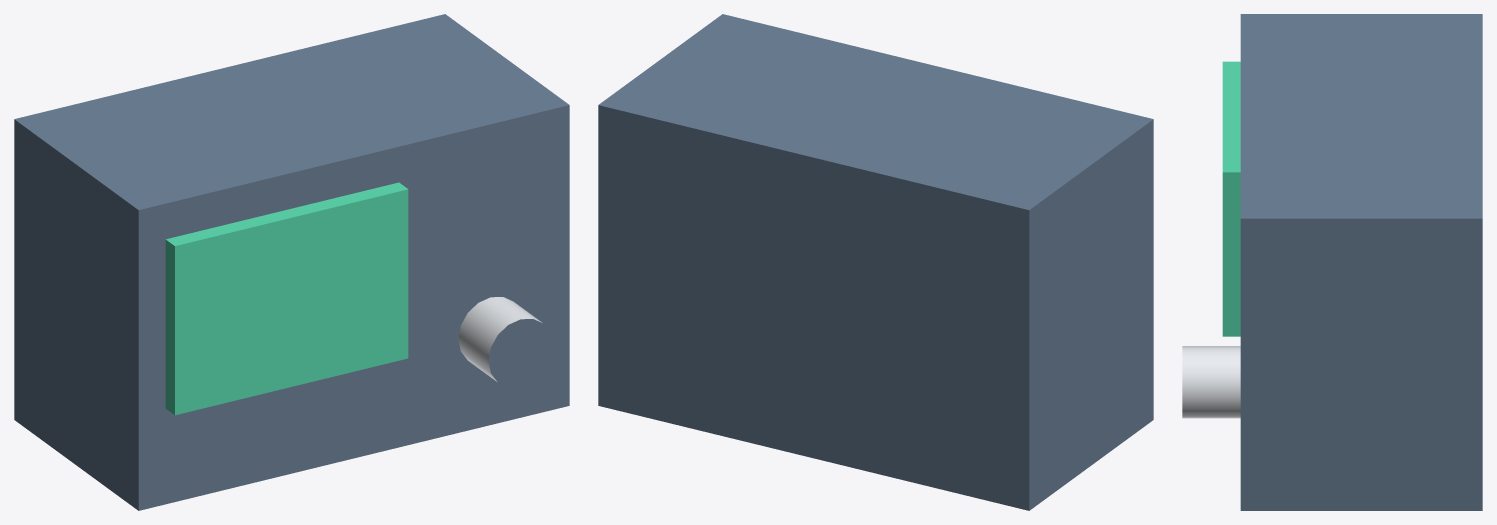
File: ultrasonic_flaw_detector_ndt.glb
3 views of the same model, side by side, from view 1: azimuth 30°, elevation 25°; view 2: azimuth 150°, elevation 25°; view 3: azimuth 270°, elevation 25° (orthographic). The views are drawn at different scales.
Visible parts, largest first — view 1: FlawDetectorMainChassis, AScanCRTGraticuleScreen, PiezoelectricSearchProbe; view 2: FlawDetectorMainChassis; view 3: FlawDetectorMainChassis, AScanCRTGraticuleScreen, PiezoelectricSearchProbe.
Boxes of the visible parts, x1,y1,x2,y2 form: FlawDetectorMainChassis: [14, 14, 569, 510]; AScanCRTGraticuleScreen: [165, 182, 408, 415]; PiezoelectricSearchProbe: [458, 297, 542, 381]; FlawDetectorMainChassis: [598, 14, 1153, 510]; FlawDetectorMainChassis: [1240, 14, 1482, 510]; AScanCRTGraticuleScreen: [1222, 61, 1240, 336]; PiezoelectricSearchProbe: [1182, 346, 1240, 418].
Bounding box in the file's own units: 1.2 × 0.8 × 0.745.
